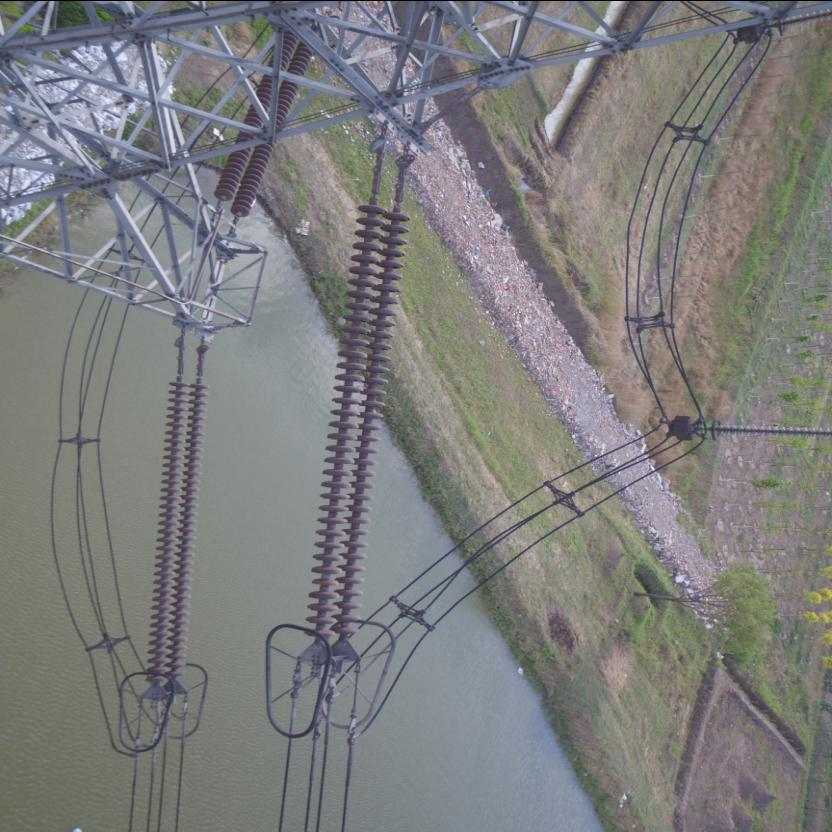insulator: (304, 192, 414, 650), (145, 360, 216, 692)
